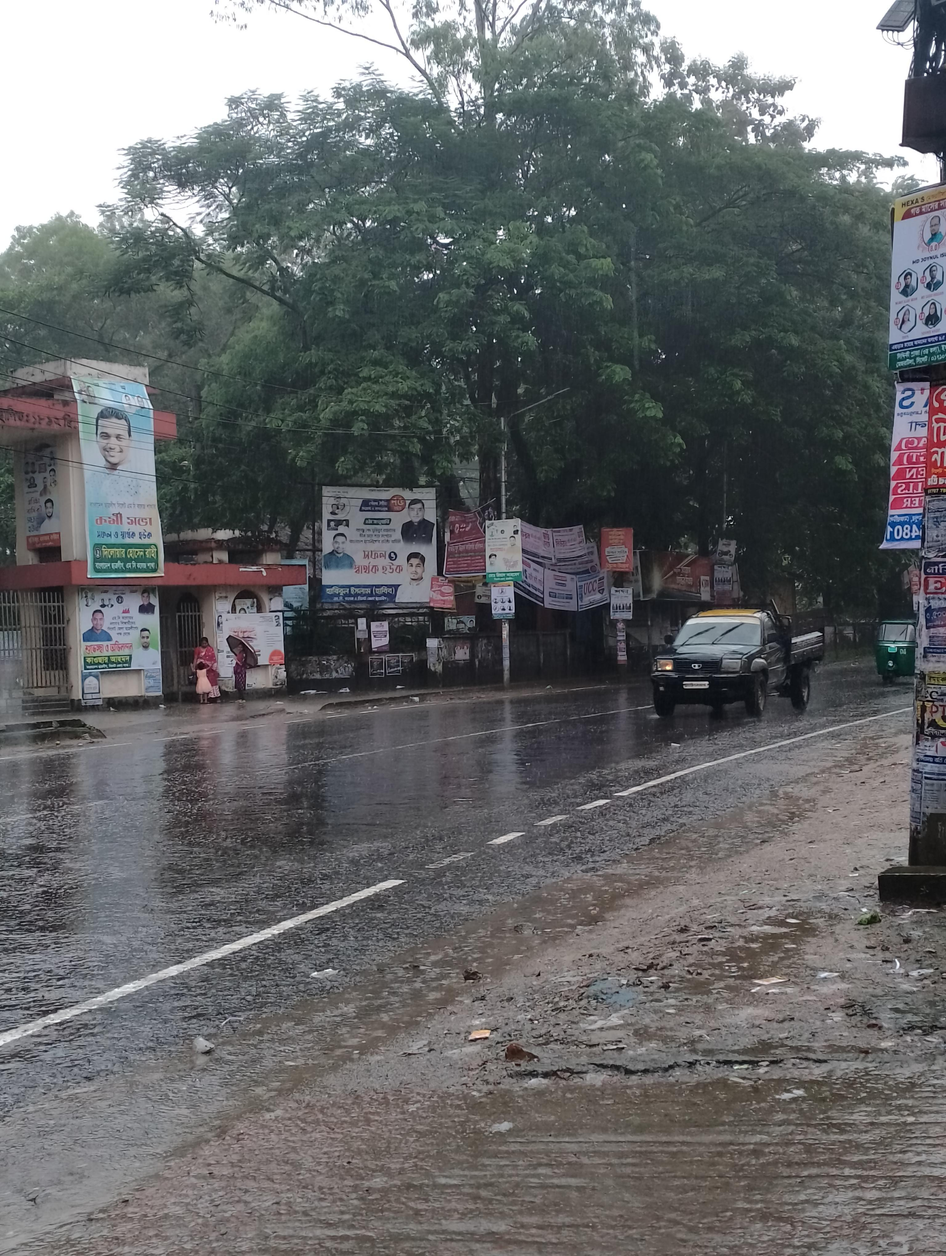Truck: (635, 586, 844, 751)
